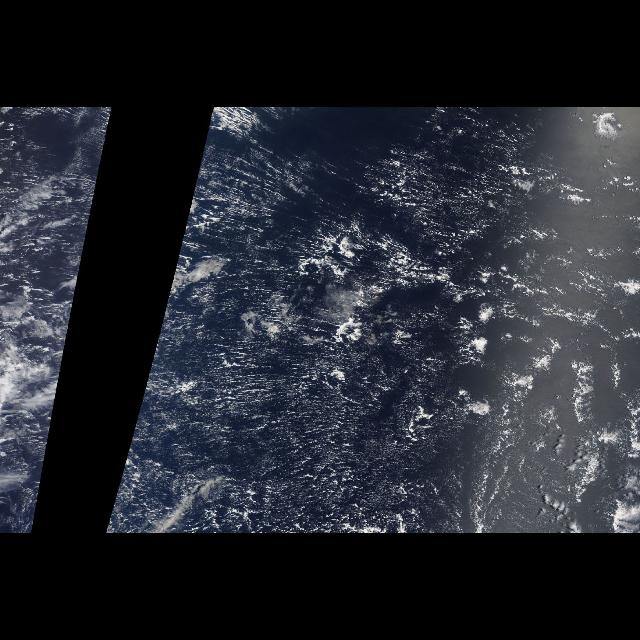Gravel: (246, 146, 620, 434)
Sugar: (105, 109, 479, 531), (44, 110, 112, 458)
